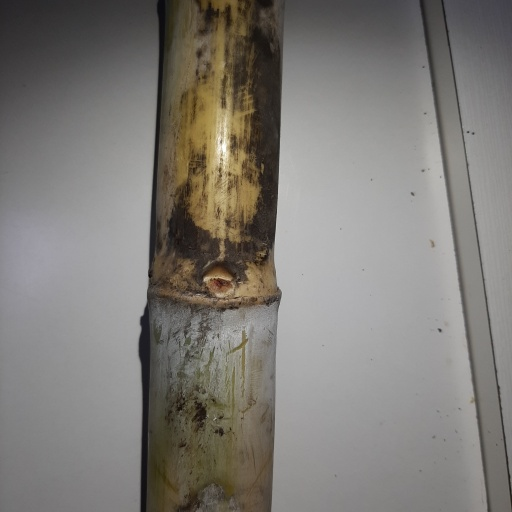Damage_Bud: (202, 263, 239, 299)
